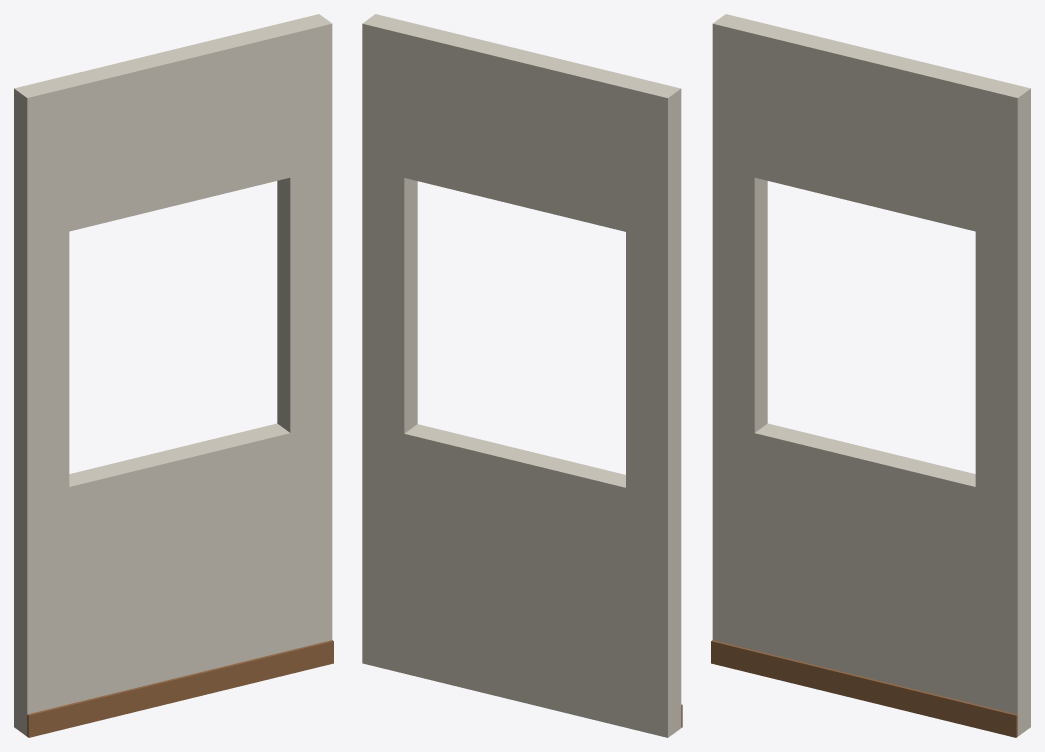
Rendered from Wall_Window_4x8.fbx.
The picture shows the model from 3 angles, left to right: view 1: azimuth 30°, elevation 25°; view 2: azimuth 150°, elevation 25°; view 3: azimuth 330°, elevation 25°; orthographic projection.
Parts seen in each view (by area): view 1: Wall_Window_4x8; view 2: Wall_Window_4x8; view 3: Wall_Window_4x8.
Part boxes in pixels (<box>): Wall_Window_4x8: <box>14,14,333,737</box>; Wall_Window_4x8: <box>362,14,682,737</box>; Wall_Window_4x8: <box>711,14,1030,737</box>.
Bounding box in the file's own units: 400 × 800 × 33.5.
